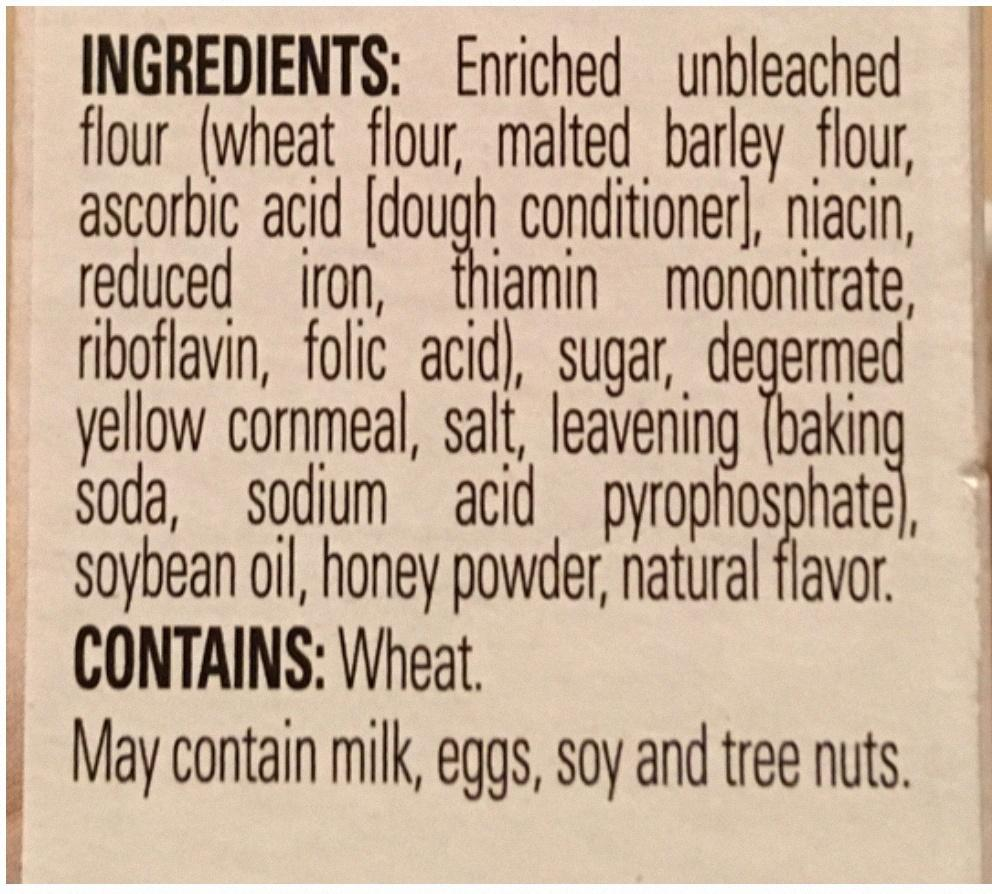ingredients: (67, 17, 933, 834)
